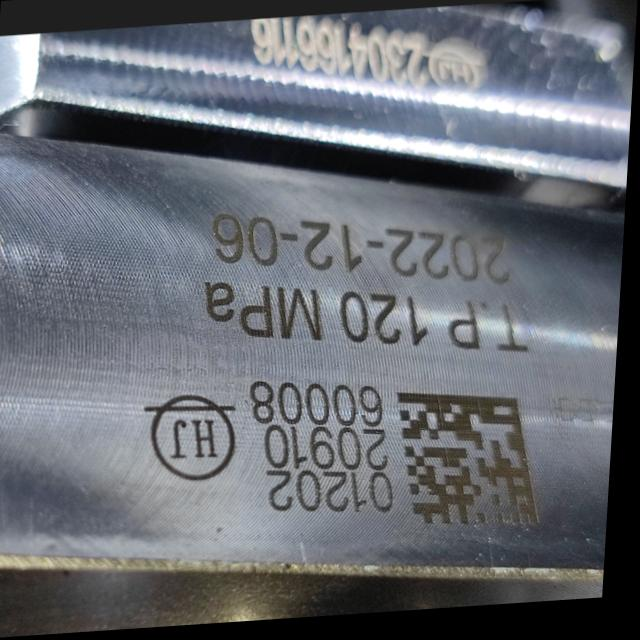dmc: (401, 397, 545, 531)
